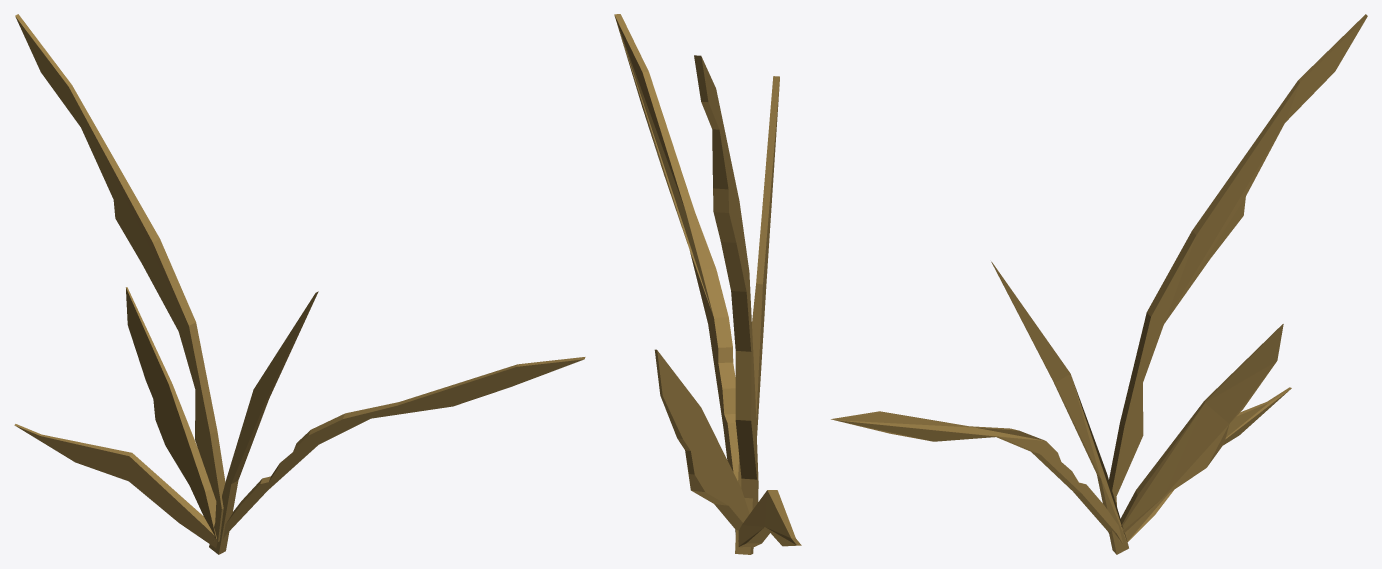
File: Grass_2.fbx
3 views of the same model, side by side, from view 1: azimuth 30°, elevation 25°; view 2: azimuth 150°, elevation 25°; view 3: azimuth 270°, elevation 25° (orthographic). The views are drawn at different scales.
Parts seen in each view (by area): view 1: Savanna.006_0; view 2: Savanna.006_0; view 3: Savanna.006_0.
Boxes of the visible parts, <box> form: Savanna.006_0: <box>14,14,585,554</box>; Savanna.006_0: <box>614,14,801,554</box>; Savanna.006_0: <box>831,14,1367,554</box>.
Size of the model in its own units: 126 by 160 by 158.
